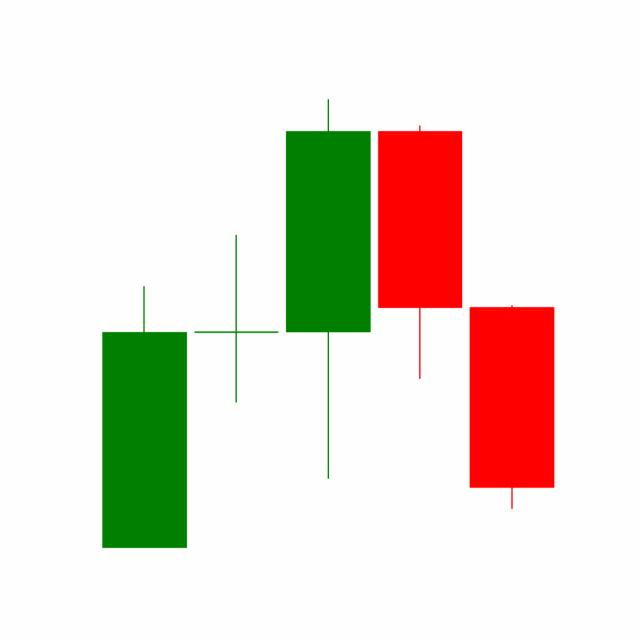Marubozu: (464, 303, 558, 511)
